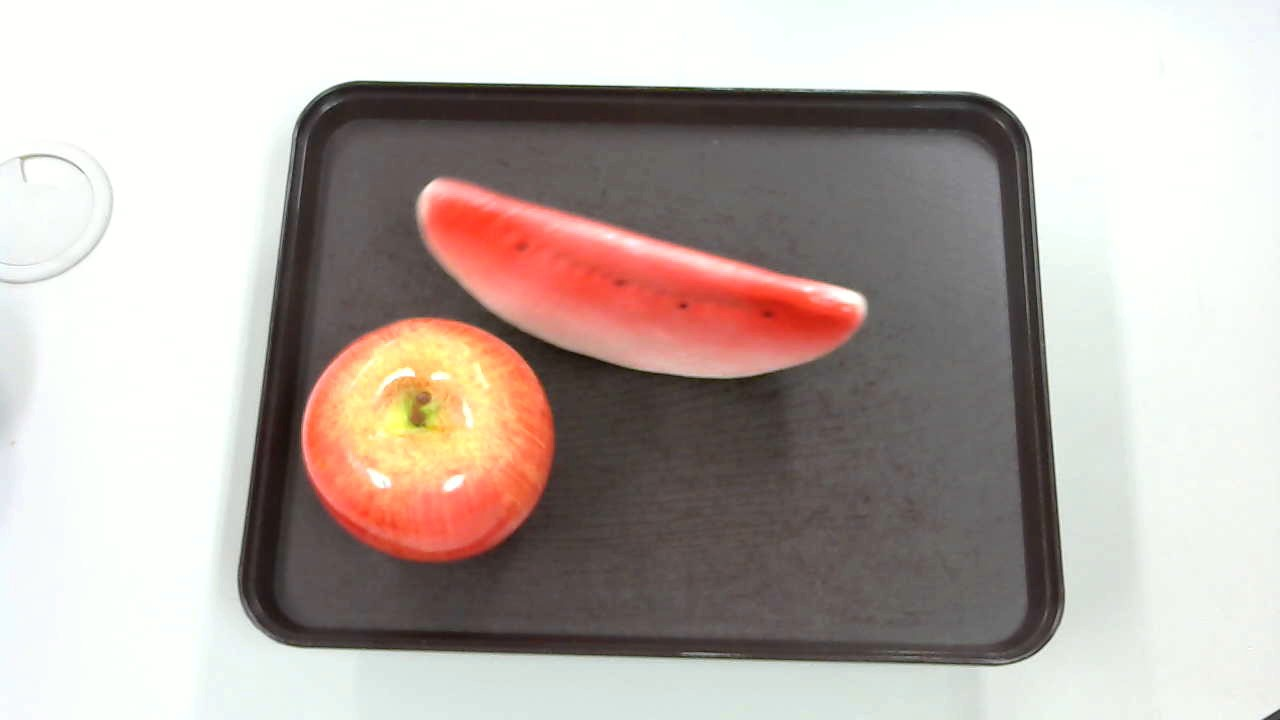red apple: (302, 312, 558, 568)
water melon: (402, 166, 872, 403)
